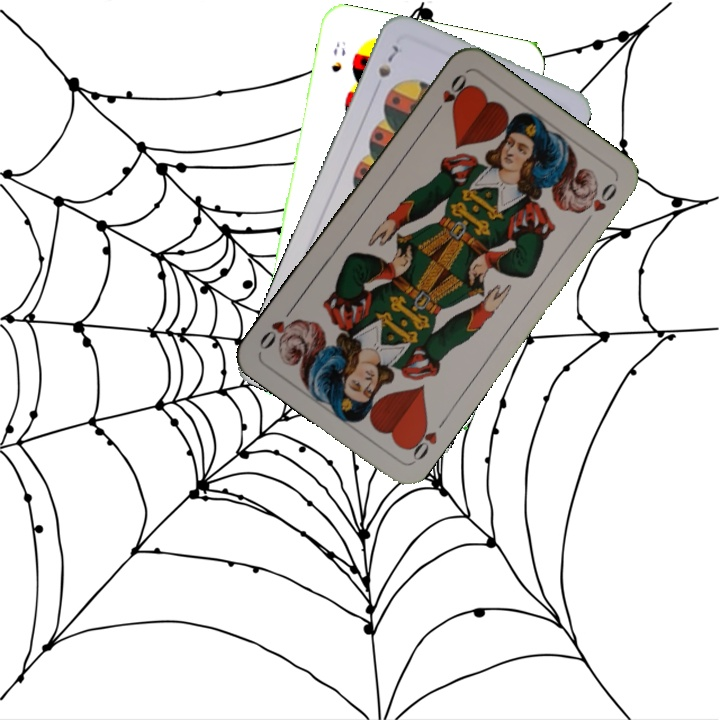HO: (402, 414, 450, 464), (428, 69, 470, 120)
S7: (374, 40, 402, 81)
S8: (327, 37, 348, 75)
